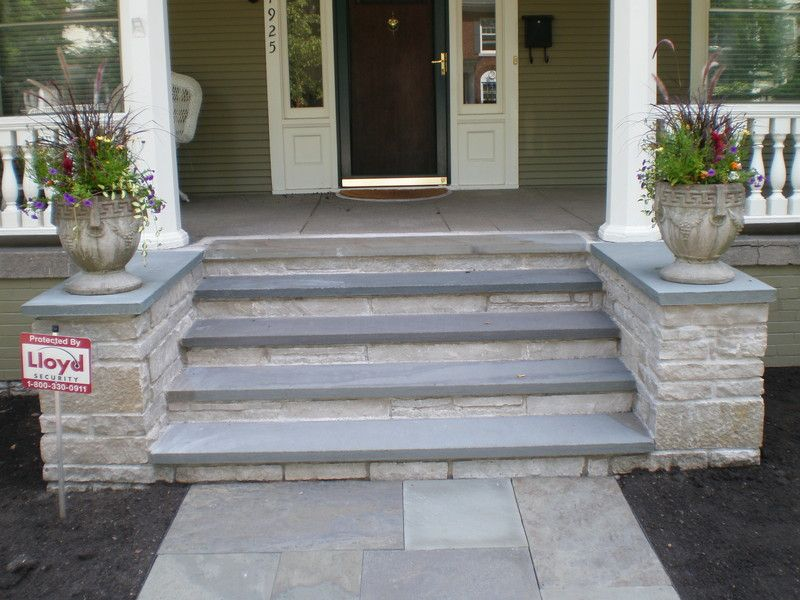upstairs: (210, 243, 598, 489)
